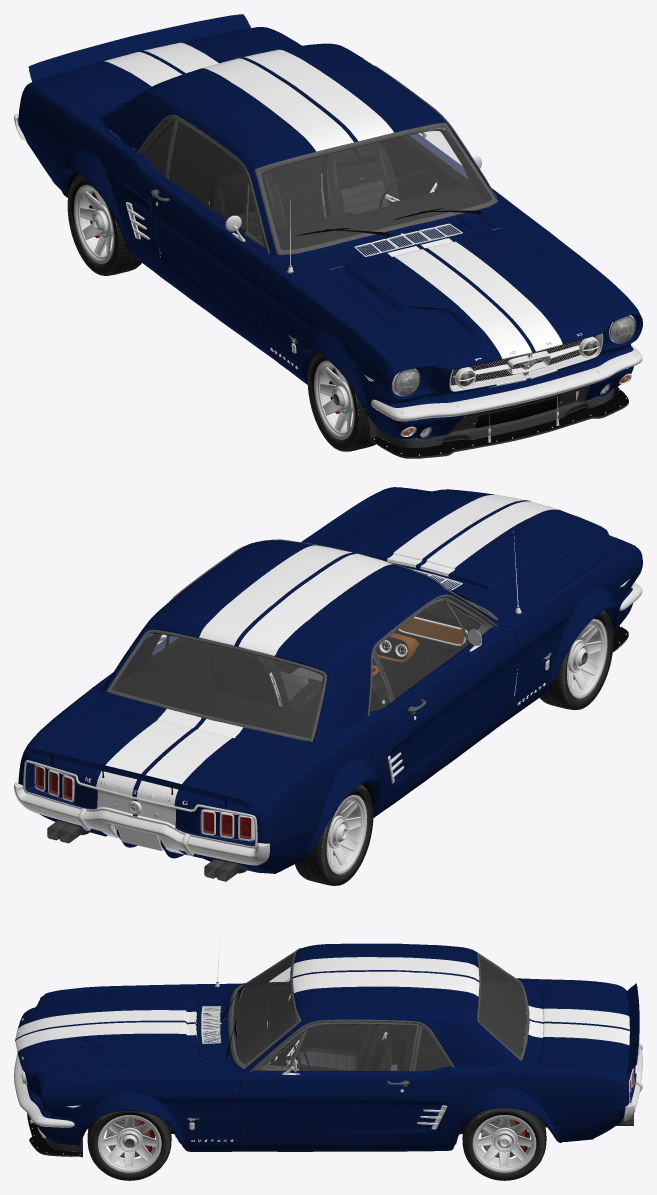
Rendered from ford_mustang-transformed.glb.
The picture shows the model from 3 angles, top to bottom: view 1: azimuth 30°, elevation 25°; view 2: azimuth 150°, elevation 25°; view 3: azimuth 270°, elevation 25°; orthographic projection. The views are drawn at different scales.
Parts seen in each view (by area): view 1: Object_111, Kapoot_7, Object_16, Sandogh Agha_2, Object_193, Object_104, Object_112, Back Pahloo_53, Object_14, Ring Sport Front_100, Object_101, Object_172 (+15 smaller); view 2: Object_111, Sandogh Agha_2, Object_16, Kapoot_7, Object_104, Object_193, Back Pahloo_53, Object_112, Object_14, Ring Sport Front_100, Object_129, Tire Front_101 (+13 smaller); view 3: Object_111, Object_16, Kapoot_7, Object_193, Sandogh Agha_2, Back Pahloo_53, Object_104, Object_112, Ring Sport Front_100, Tire Front_101, Object_172, Object_14 (+12 smaller).
Boxes of the visible parts, x1=… form: Object_111: x1=94, y1=43, x2=642, y2=424; Kapoot_7: x1=323, y1=227, x2=609, y2=369; Object_16: x1=143, y1=121, x2=490, y2=249; Sandogh Agha_2: x1=28, y1=14, x2=603, y2=422; Object_193: x1=151, y1=133, x2=510, y2=349; Object_104: x1=143, y1=75, x2=490, y2=249; Object_112: x1=202, y1=49, x2=557, y2=386; Back Pahloo_53: x1=18, y1=27, x2=301, y2=274; Object_14: x1=208, y1=142, x2=399, y2=238; Ring Sport Front_100: x1=74, y1=184, x2=358, y2=439; Object_101: x1=277, y1=185, x2=491, y2=249; Object_172: x1=136, y1=65, x2=498, y2=255; Object_111: x1=94, y1=487, x2=642, y2=817; Sandogh Agha_2: x1=29, y1=588, x2=618, y2=862; Object_16: x1=112, y1=602, x2=479, y2=737; Kapoot_7: x1=330, y1=489, x2=608, y2=596; Object_104: x1=113, y1=595, x2=478, y2=741; Object_193: x1=156, y1=625, x2=519, y2=786; Back Pahloo_53: x1=18, y1=646, x2=410, y2=863; Object_112: x1=157, y1=545, x2=393, y2=738; Object_14: x1=208, y1=643, x2=407, y2=734; Ring Sport Front_100: x1=122, y1=619, x2=607, y2=873; Object_129: x1=14, y1=782, x2=269, y2=865; Tire Front_101: x1=100, y1=610, x2=613, y2=885; Object_111: x1=25, y1=943, x2=543, y2=1151; Object_16: x1=233, y1=954, x2=525, y2=1070; Kapoot_7: x1=15, y1=993, x2=200, y2=1075; Object_193: x1=238, y1=983, x2=412, y2=1144; Sandogh Agha_2: x1=77, y1=983, x2=639, y2=1144; Back Pahloo_53: x1=400, y1=978, x2=630, y2=1144; Object_104: x1=229, y1=952, x2=526, y2=1071; Object_112: x1=292, y1=957, x2=543, y2=1037; Ring Sport Front_100: x1=98, y1=1036, x2=536, y2=1172; Tire Front_101: x1=87, y1=1022, x2=546, y2=1180; Object_172: x1=228, y1=948, x2=529, y2=1086; Object_14: x1=297, y1=1024, x2=392, y2=1070.
Size of what is drawn, in the model's own units: 0.7678 by 0.5963 by 1.92.
39 materials, 15 textured.
